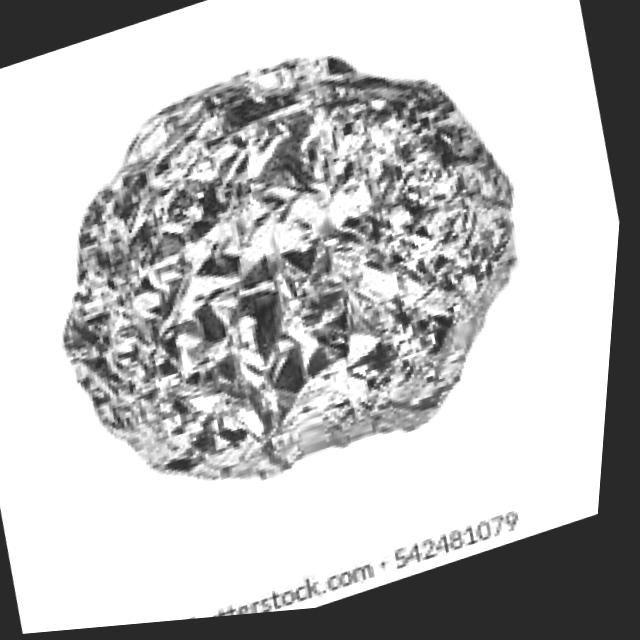Foil: (1, 0, 595, 559)
